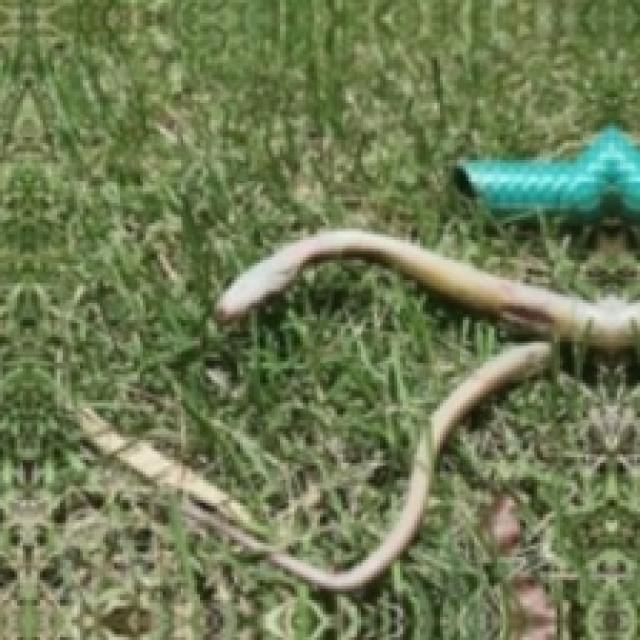reddish rat snake: (77, 229, 637, 589)
